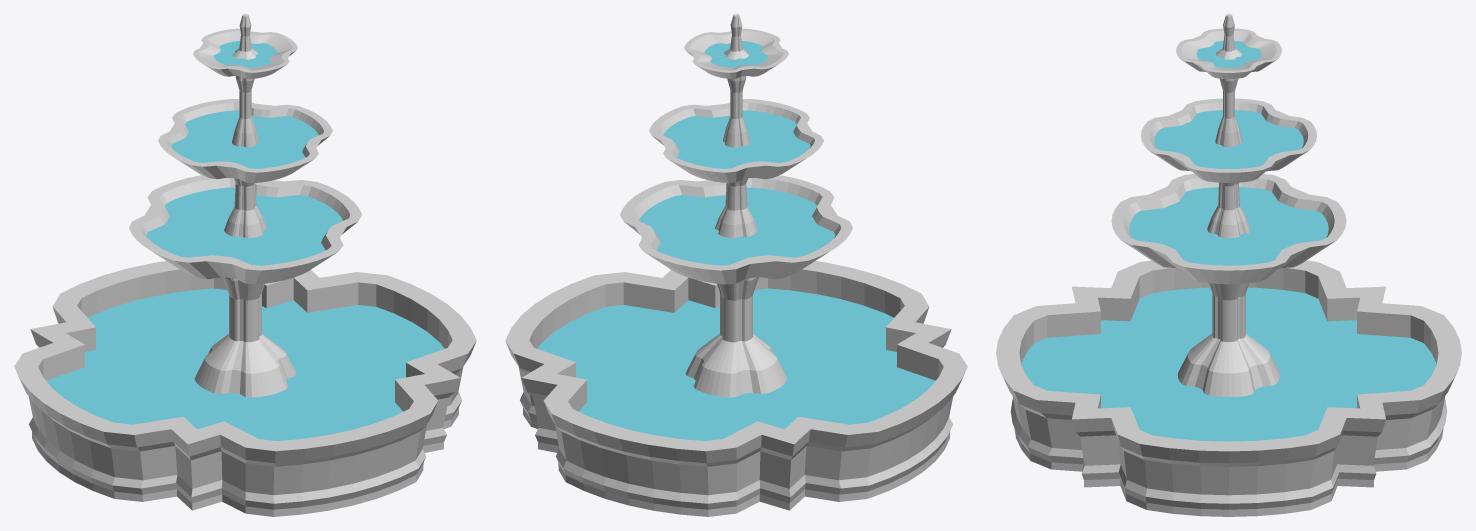
File: fountain.fbx
3 renders of one model, left to right at view 1: azimuth 30°, elevation 25°; view 2: azimuth 150°, elevation 25°; view 3: azimuth 270°, elevation 25°, orthographic.
Visible parts, largest first — view 1: Fountain; view 2: Fountain; view 3: Fountain.
Part boxes in pixels (x1,y1,x2,y2): Fountain: [14, 14, 476, 516]; Fountain: [505, 14, 967, 516]; Fountain: [996, 14, 1461, 516].
Bounding box in the file's own units: 289 × 281 × 289.
